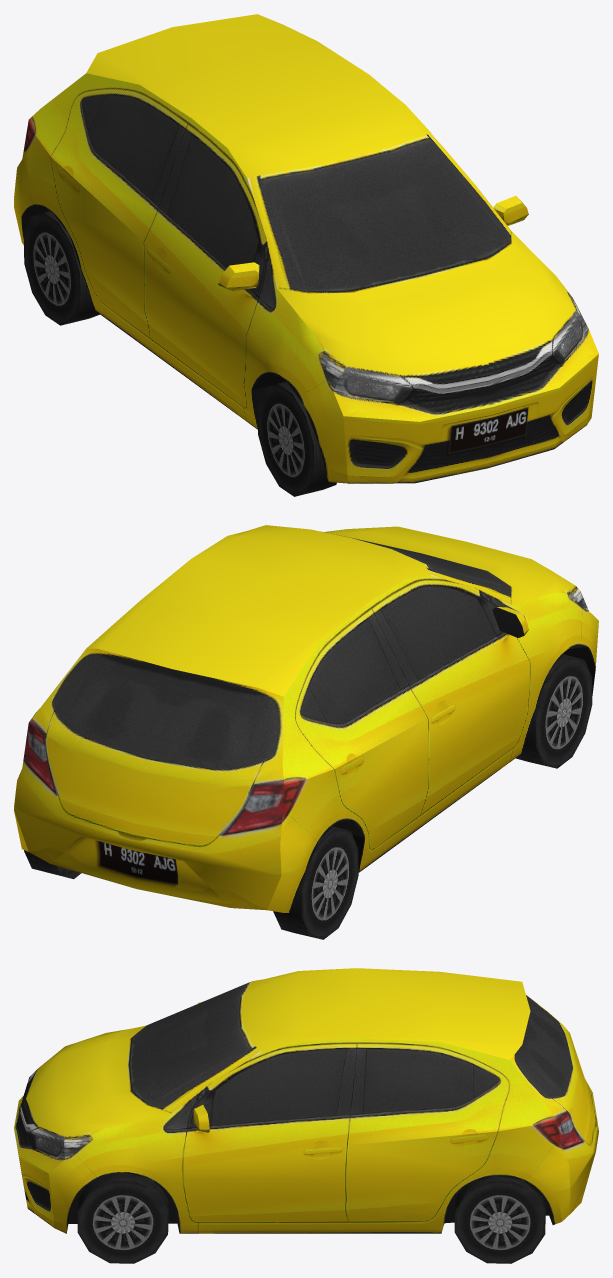
File: brio_psx_style_han66st.glb
3 renders of one model, top to bottom at view 1: azimuth 30°, elevation 25°; view 2: azimuth 150°, elevation 25°; view 3: azimuth 270°, elevation 25°, orthographic. The views are drawn at different scales.
Parts seen in each view (by area): view 1: bodyhatchback1, wheel, wheel.001; view 2: bodyhatchback1, wheel.001, wheel, wheel.003; view 3: bodyhatchback1, wheel.002, wheel.003.
Boxes of the visible parts, x1,y1,x2,y2 form: bodyhatchback1: [14, 14, 598, 483]; wheel: [257, 381, 336, 496]; wheel.001: [24, 211, 99, 325]; bodyhatchback1: [14, 525, 598, 912]; wheel.001: [273, 826, 358, 939]; wheel: [516, 654, 592, 768]; wheel.003: [24, 850, 81, 879]; bodyhatchback1: [14, 968, 598, 1233]; wheel.002: [77, 1172, 168, 1263]; wheel.003: [454, 1175, 545, 1263].
Bounding box in the file's own units: 1.86 × 1.5 × 3.81.
Materials: 1 (1 with a texture image).
